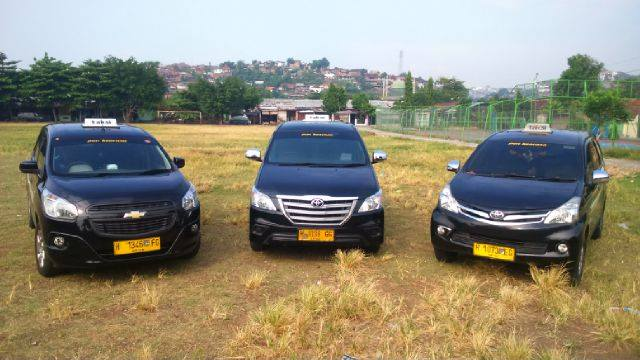plate: (114, 237, 164, 255), (472, 241, 514, 262), (298, 229, 333, 241)
